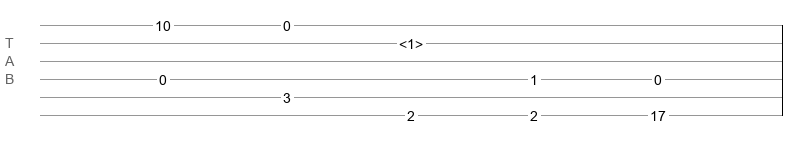0: (159, 72, 167, 82), (283, 18, 291, 28), (654, 72, 662, 82)
1: (530, 72, 538, 82)
10: (155, 18, 171, 28)
17: (650, 108, 666, 118)
2: (407, 108, 415, 118), (530, 108, 538, 118)
3: (283, 90, 291, 100)
harmonic: (399, 36, 423, 46)
